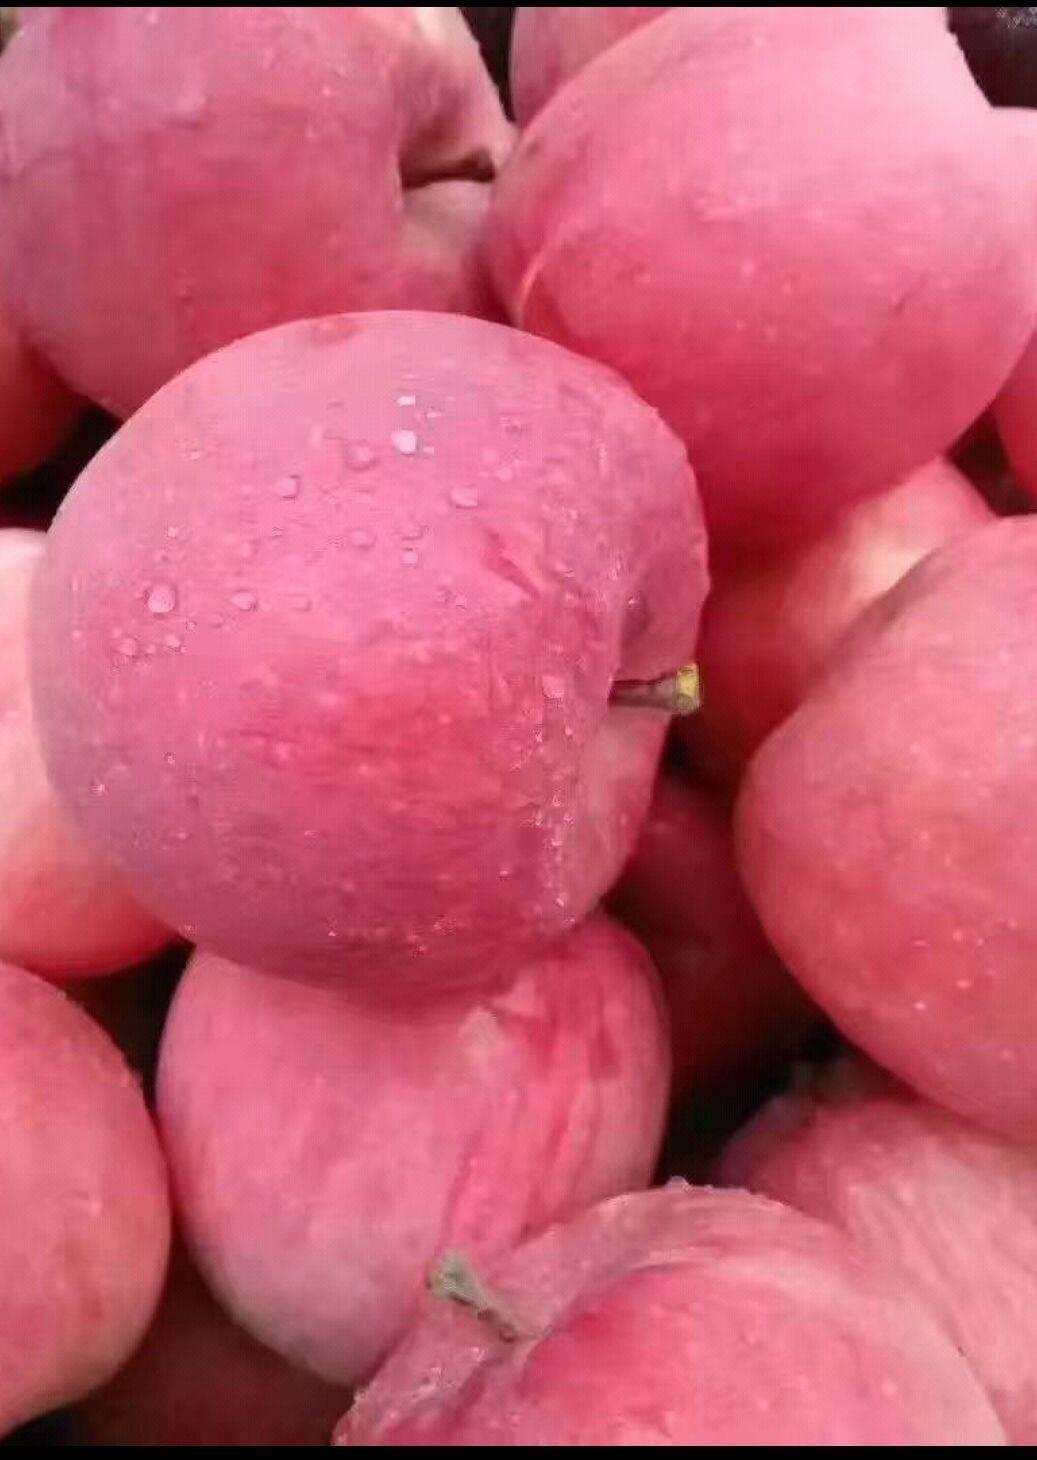apple: (22, 244, 712, 995), (481, 18, 1024, 552), (148, 900, 669, 1381)
